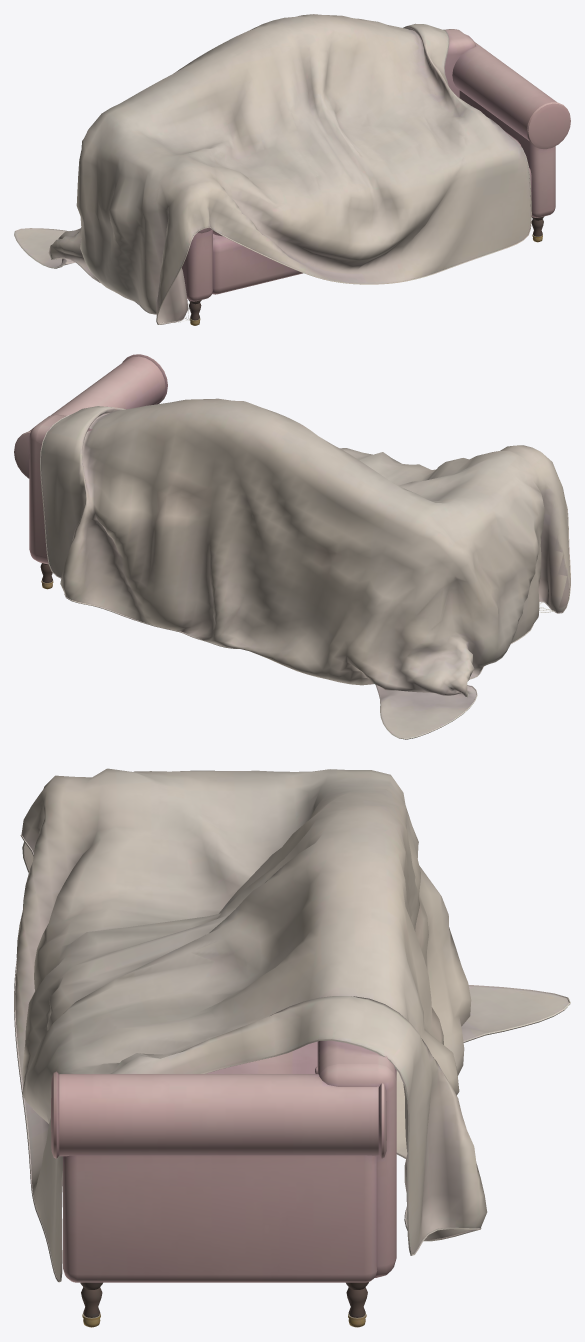
The model's file is dust-sheet-sofa.glb.
The picture shows the model from 3 angles, top to bottom: view 1: azimuth 30°, elevation 25°; view 2: azimuth 150°, elevation 25°; view 3: azimuth 270°, elevation 25°; orthographic projection. The views are drawn at different scales.
Parts seen in each view (by area): view 1: dust-sheet-sofa_body; view 2: dust-sheet-sofa_body; view 3: dust-sheet-sofa_body.
Boxes of the visible parts, box(x1,y1,x2,y2) form: dust-sheet-sofa_body: box(14, 14, 570, 325); dust-sheet-sofa_body: box(14, 354, 570, 739); dust-sheet-sofa_body: box(14, 768, 570, 1327).
Size of the model in its own units: 2.34 by 1.08 by 1.55.
3 materials, 1 textured.
